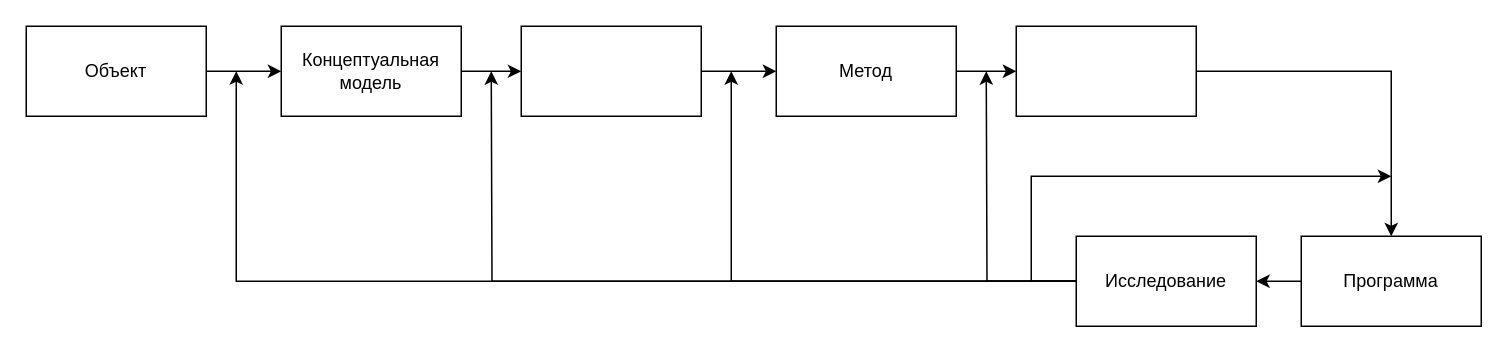
The diagram is 1508 pixels wide and 353 high, and some of its shapes have lost their labels. The shapes that lost their labels are listed below. From the top down, each one's centre as x and y in pixels, then its label:
At (x=610, y=70): "Математическая модель".
At (x=1105, y=70): "Алгоритм".
